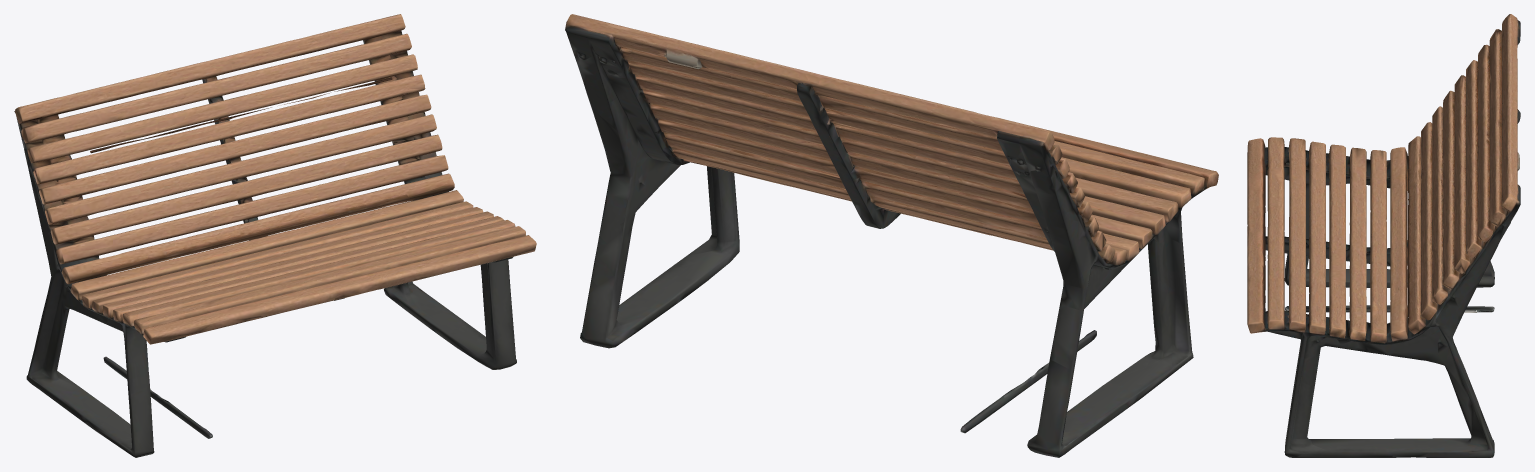
File: benchslat.glb
3 renders of one model, left to right at view 1: azimuth 30°, elevation 25°; view 2: azimuth 150°, elevation 25°; view 3: azimuth 270°, elevation 25°, orthographic. The views are drawn at different scales.
Parts seen in each view (by area): view 1: tripo_node_187c0388-e9b6-4828-8fcf-9b74c34d3c89; view 2: tripo_node_187c0388-e9b6-4828-8fcf-9b74c34d3c89; view 3: tripo_node_187c0388-e9b6-4828-8fcf-9b74c34d3c89.
Boxes of the visible parts, left/top/right/bottom form: tripo_node_187c0388-e9b6-4828-8fcf-9b74c34d3c89: left=14, top=14, right=536, bottom=457; tripo_node_187c0388-e9b6-4828-8fcf-9b74c34d3c89: left=565, top=14, right=1218, bottom=457; tripo_node_187c0388-e9b6-4828-8fcf-9b74c34d3c89: left=1247, top=14, right=1520, bottom=457.
Size of the model in its own units: 1.13 by 0.75 by 0.7093.
Materials: 1 (1 with a texture image).
